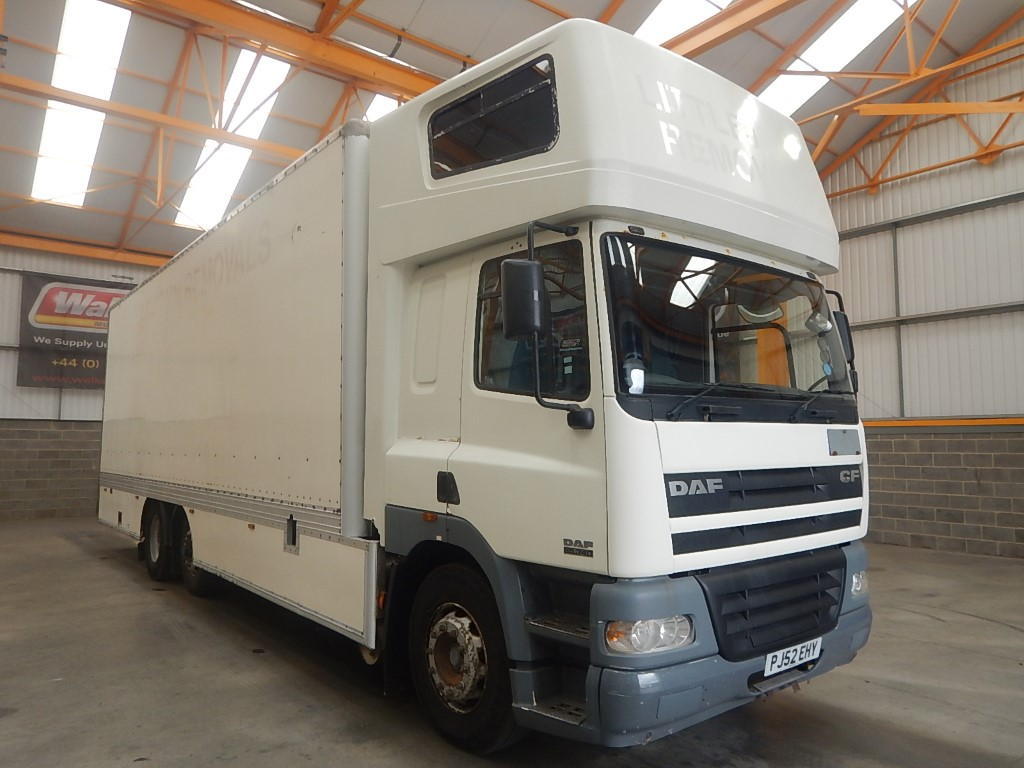truck: (375, 8, 876, 755)
